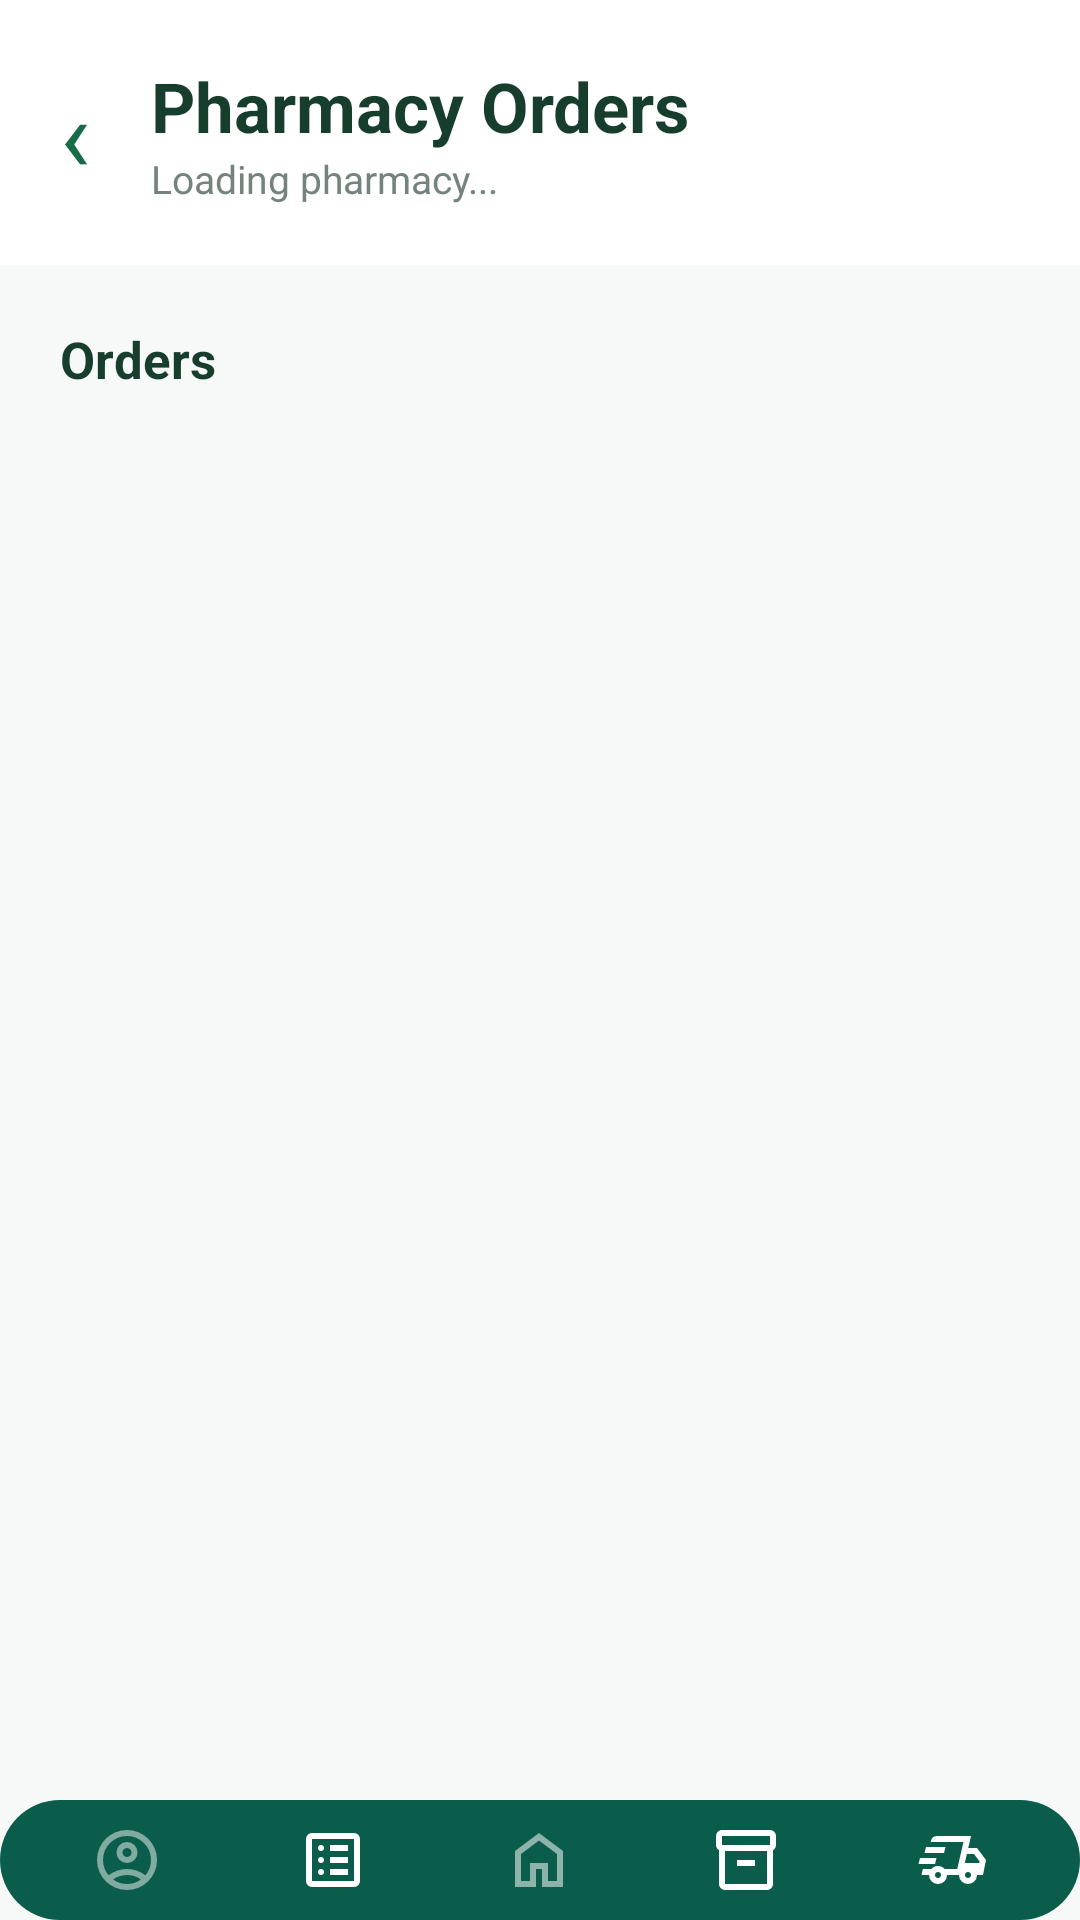

Named icons in this screenshot (1080px×1920px) and their centers, (x,y):
Deliveries: (952,1860)
Home: (539,1860)
Inventory: (746,1860)
Orders: (333,1860)
Profile: (127,1860)
